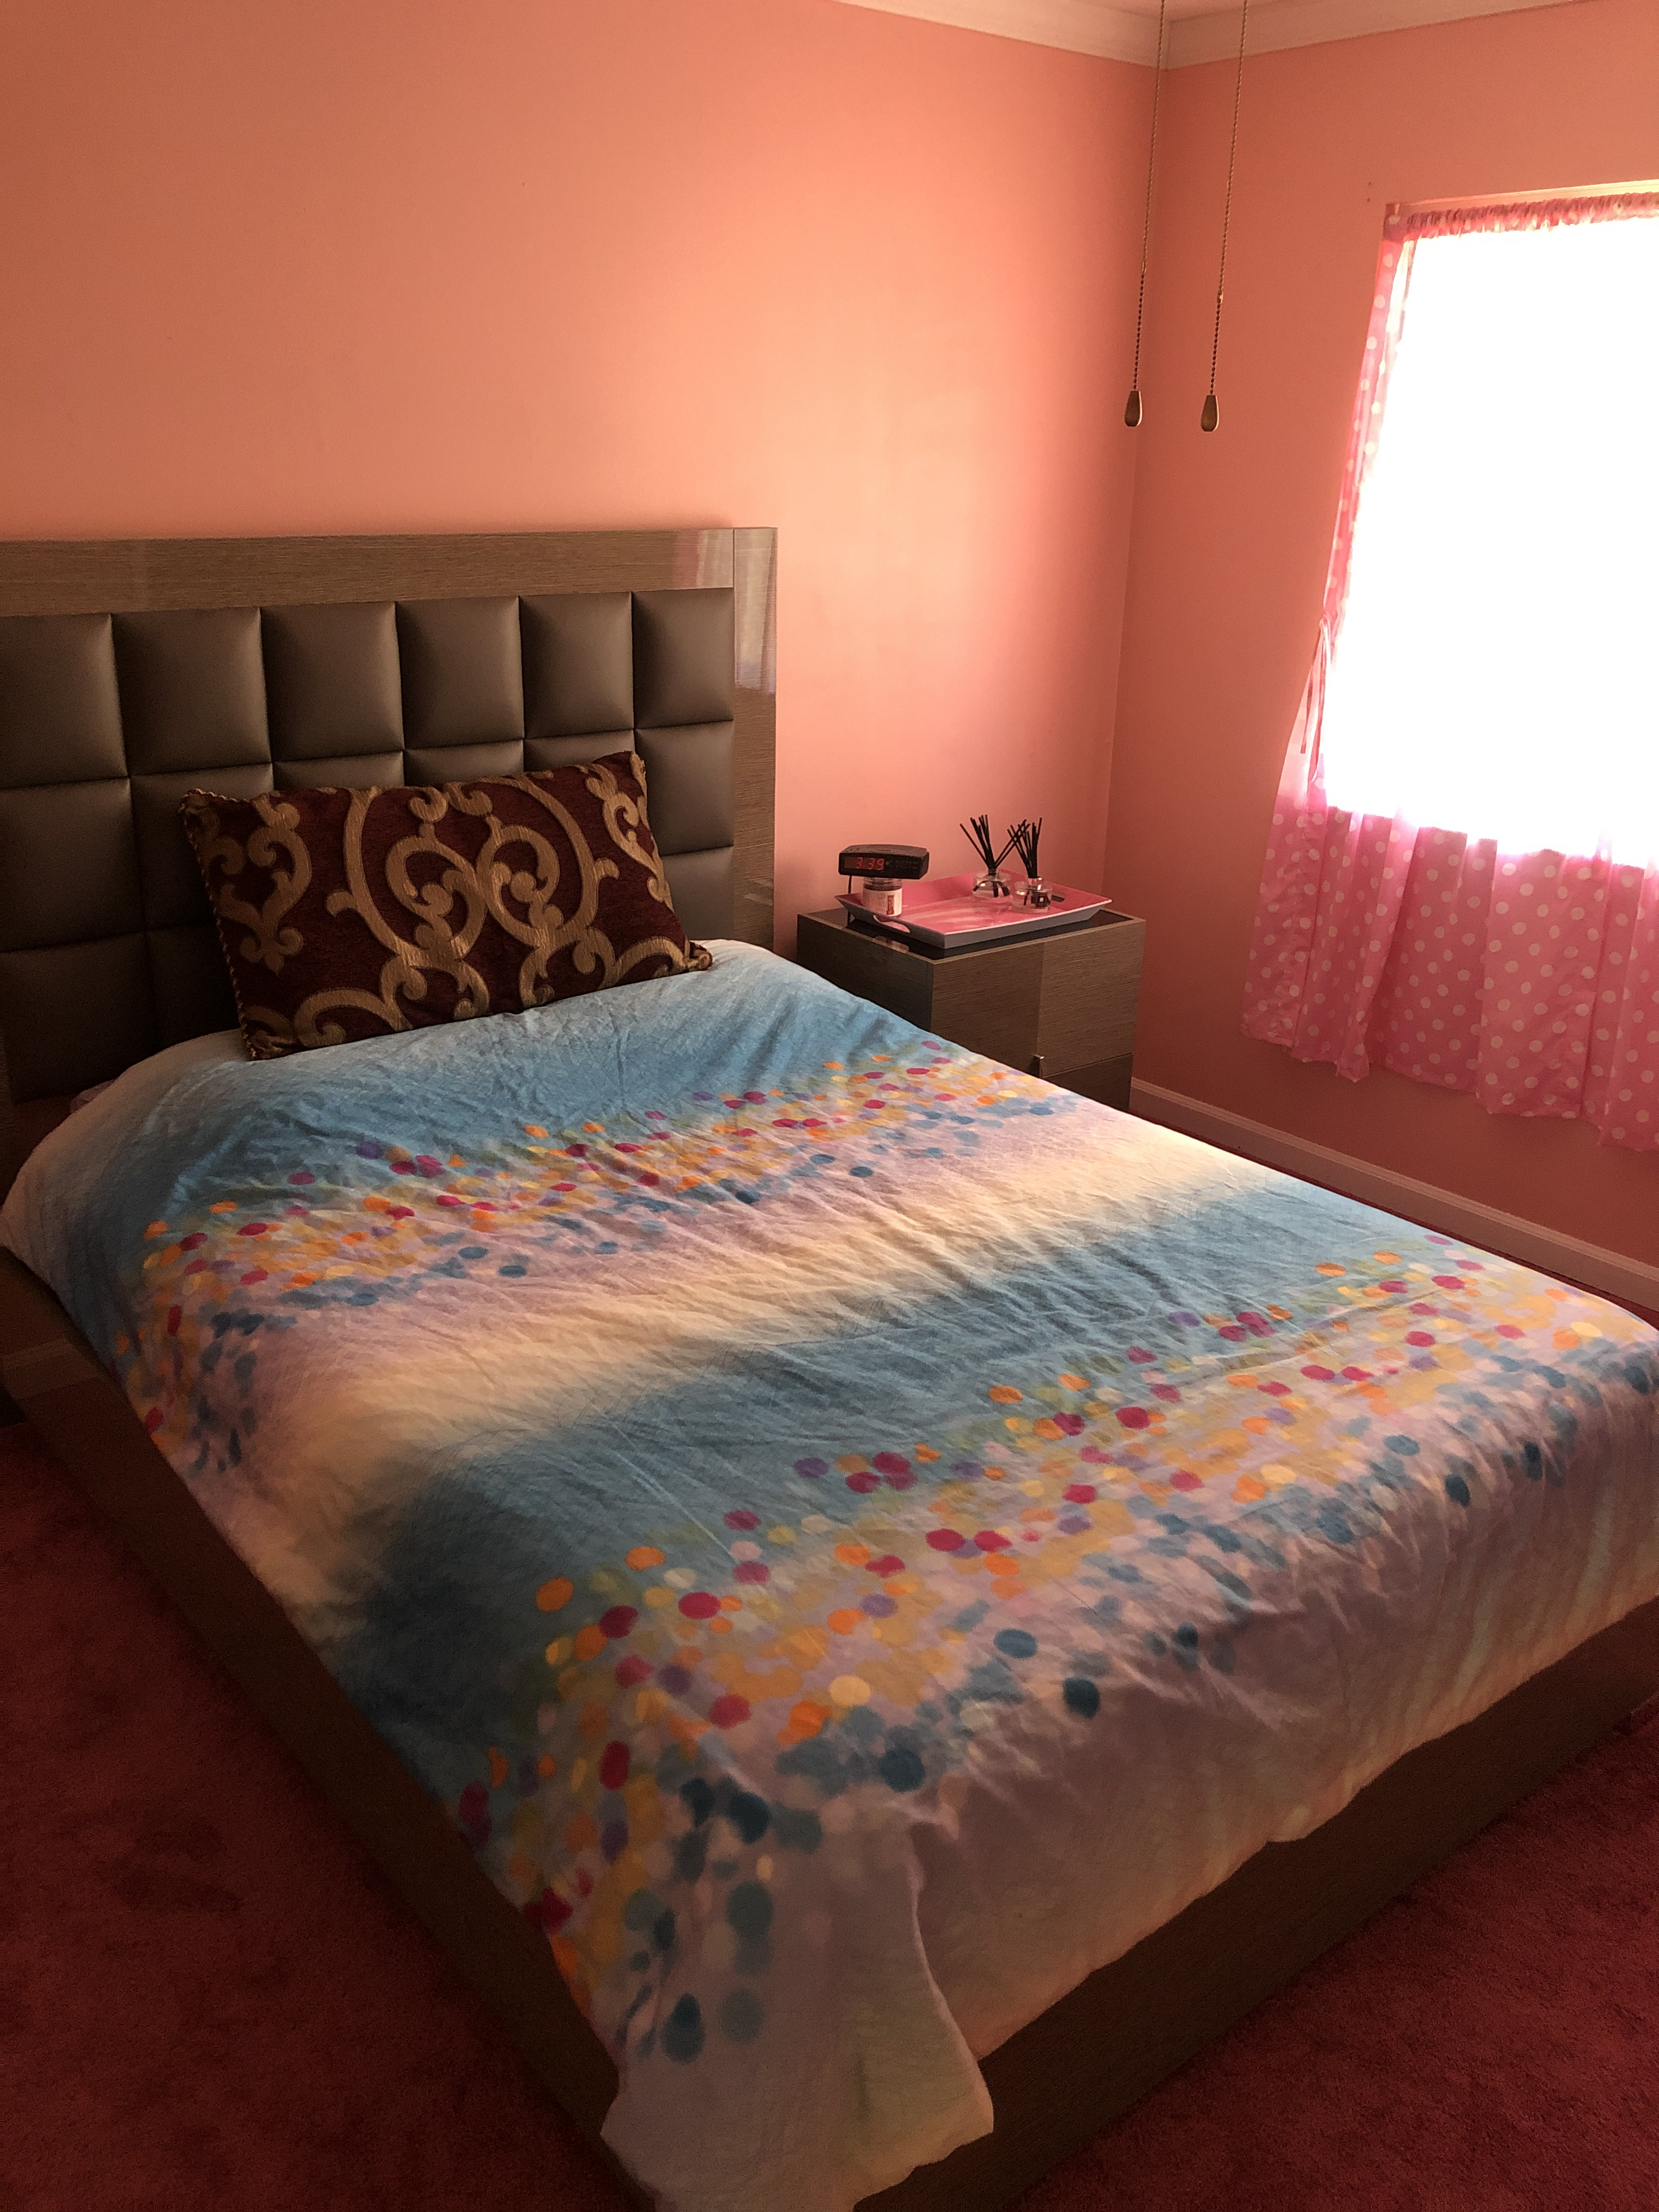bed: (5, 535, 1656, 2191)
night stand: (796, 855, 1145, 1099)
